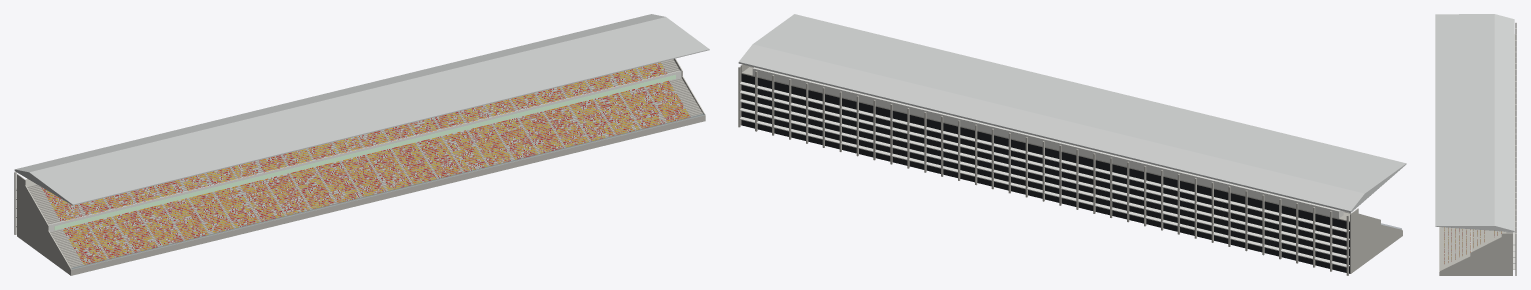
The model's file is sha_stand_c.glb.
3 views of the same model, side by side, from view 1: azimuth 30°, elevation 25°; view 2: azimuth 150°, elevation 25°; view 3: azimuth 270°, elevation 25° (orthographic). The views are drawn at different scales.
Parts seen in each view (by area): view 1: shanghai-grandstand-a; view 2: shanghai-grandstand-a; view 3: shanghai-grandstand-a.
Part boxes in pixels (x1,y1,x2,y2): shanghai-grandstand-a: (14,14,709,275); shanghai-grandstand-a: (738,14,1406,275); shanghai-grandstand-a: (1435,14,1516,275).
Size of the model in its own units: 329 by 36.6 by 53.4.
